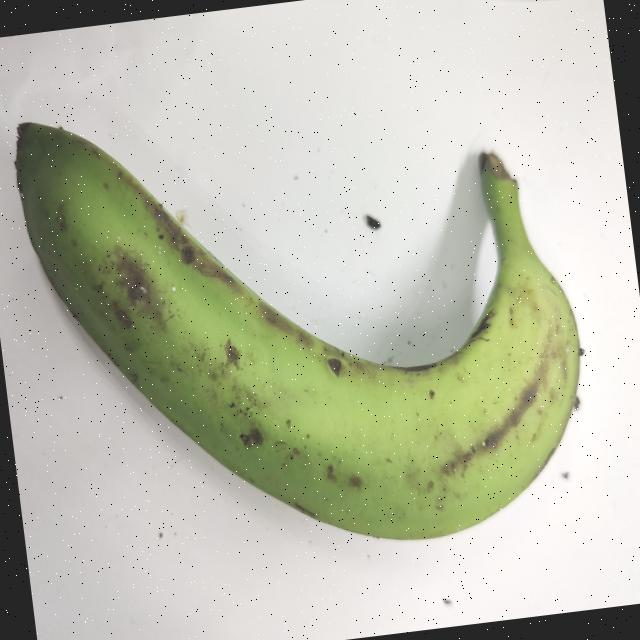Raw: (0, 4, 622, 614)
